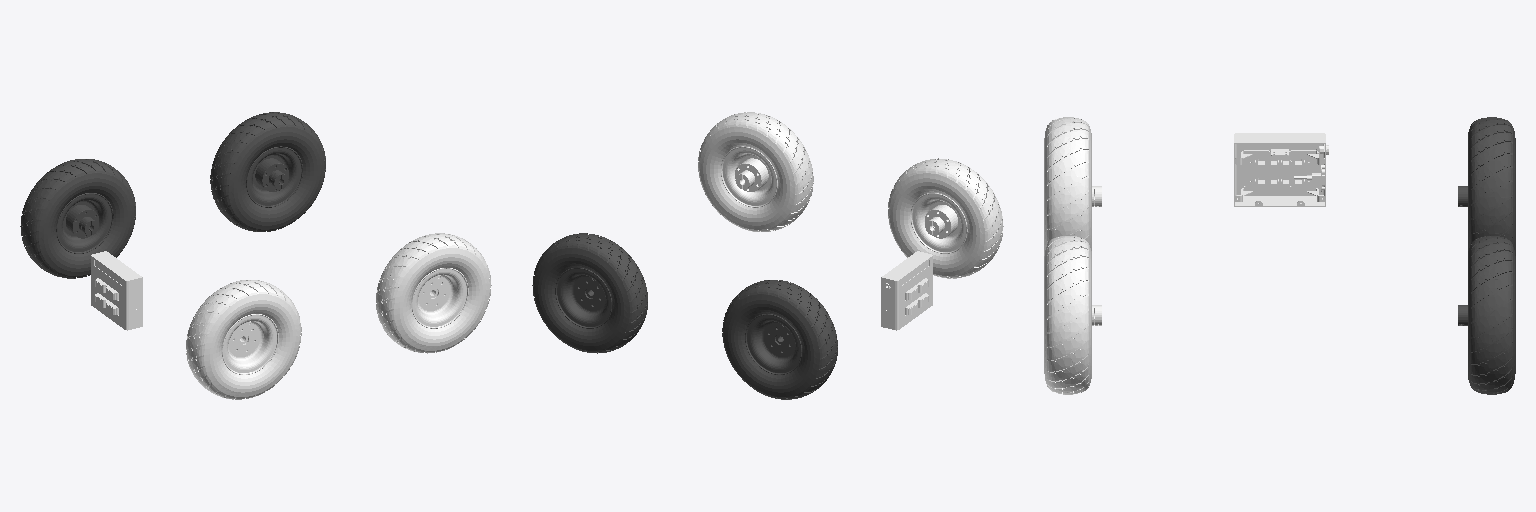
The robot description file, URDF, robot "top_4wd_dl_robot":
<?xml version="1.0" encoding="utf-8"?>
<!-- This URDF was automatically created by SolidWorks to URDF Exporter! Originally created by [author] ([email redacted]) 
     Commit Version: 1.6.0-4-g7f85cfe  Build Version: 1.6.7995.38578
     For more information, please see http://wiki.ros.org/sw_urdf_exporter -->
<robot
  name="top_4wd_dl_robot">
  <link
    name="base_link">
    <inertial>
      <origin
        xyz="-0.00553275858563772 -4.28792765896678E-05 0.0667089145254447"
        rpy="0 0 0" />
      <mass
        value="4.95424585875372" />
      <inertia
        ixx="0.0280370213159222"
        ixy="-7.08343863235741E-05"
        ixz="1.60705652948063E-06"
        iyy="0.0236467930876153"
        iyz="-1.04968574849272E-06"
        izz="0.048615492572775" />
    </inertial>
    <visual>
      <origin
        xyz="0 0 0"
        rpy="0 0 0" />
      <geometry>
        <mesh
          filename="package://wheeltec_robot_urdf/meshes/top_4wd_dl_robot_meshes/base_link.STL" />
      </geometry>
      <material
        name="">
        <color
          rgba="0.741176470588235 0.901960784313726 0.956862745098039 1" />
      </material>
    </visual>
    <collision>
      <origin
        xyz="0 0 0"
        rpy="0 0 0" />
      <geometry>
        <mesh
          filename="package://wheeltec_robot_urdf/meshes/top_4wd_dl_robot_meshes/base_link.STL" />
      </geometry>
    </collision>
  </link>
  <link
    name="lf_wheel_link">
    <inertial>
      <origin
        xyz="7.00190263297484E-07 -0.000667319267603272 2.42491191015937E-09"
        rpy="0 0 0" />
      <mass
        value="2.02582703878498" />
      <inertia
        ixx="0.00759861610238295"
        ixy="1.5479398059242E-08"
        ixz="-6.63299308230019E-08"
        iyy="0.0140697648307362"
        iyz="-4.55966663512674E-09"
        izz="0.00759881990002083" />
    </inertial>
    <visual>
      <origin
        xyz="0 0 0"
        rpy="0 0 0" />
      <geometry>
        <mesh
          filename="package://wheeltec_robot_urdf/meshes/top_4wd_dl_robot_meshes/lf_wheel_link.STL" />
      </geometry>
      <material
        name="">
        <color
          rgba="0.376470588235294 0.376470588235294 0.376470588235294 1" />
      </material>
    </visual>
    <collision>
      <origin
        xyz="0 0 0"
        rpy="0 0 0" />
      <geometry>
        <mesh
          filename="package://wheeltec_robot_urdf/meshes/top_4wd_dl_robot_meshes/lf_wheel_link.STL" />
      </geometry>
    </collision>
  </link>
  <joint
    name="lf_wheel_joint"
    type="continuous">
    <origin
      xyz="0.198985160645863 0.301917641802979 0.036499572875253"
      rpy="0 0 0" />
    <parent
      link="base_link" />
    <child
      link="lf_wheel_link" />
    <axis
      xyz="0 -1 0" />
  </joint>
  <link
    name="lb_wheel_link">
    <inertial>
      <origin
        xyz="7.00190264379952E-07 -0.000667319267603494 2.42491197954831E-09"
        rpy="0 0 0" />
      <mass
        value="2.02582703878493" />
      <inertia
        ixx="0.00759861610238278"
        ixy="1.5479398075832E-08"
        ixz="-6.63299307819908E-08"
        iyy="0.0140697648307357"
        iyz="-4.55966662560843E-09"
        izz="0.00759881990002055" />
    </inertial>
    <visual>
      <origin
        xyz="0 0 0"
        rpy="0 0 0" />
      <geometry>
        <mesh
          filename="package://wheeltec_robot_urdf/meshes/top_4wd_dl_robot_meshes/lb_wheel_link.STL" />
      </geometry>
      <material
        name="">
        <color
          rgba="0.376470588235294 0.376470588235294 0.376470588235294 1" />
      </material>
    </visual>
    <collision>
      <origin
        xyz="0 0 0"
        rpy="0 0 0" />
      <geometry>
        <mesh
          filename="package://wheeltec_robot_urdf/meshes/top_4wd_dl_robot_meshes/lb_wheel_link.STL" />
      </geometry>
    </collision>
  </link>
  <joint
    name="lb_wheel_joint"
    type="continuous">
    <origin
      xyz="-0.201014839354137 0.301917641802977 0.036499572875253"
      rpy="0 0 0" />
    <parent
      link="base_link" />
    <child
      link="lb_wheel_link" />
    <axis
      xyz="0 -1 0" />
  </joint>
  <link
    name="rb_wheel_link">
    <inertial>
      <origin
        xyz="-1.55442311547405E-06 0.000667319259281374 2.44026900075855E-09"
        rpy="0 0 0" />
      <mass
        value="2.02582703846619" />
      <inertia
        ixx="0.00759861610147675"
        ixy="1.54777526550636E-08"
        ixz="6.63330408617464E-08"
        iyy="0.0140697648257949"
        iyz="4.55957157792799E-09"
        izz="0.00759881989840068" />
    </inertial>
    <visual>
      <origin
        xyz="0 0 0"
        rpy="0 0 0" />
      <geometry>
        <mesh
          filename="package://wheeltec_robot_urdf/meshes/top_4wd_dl_robot_meshes/rb_wheel_link.STL" />
      </geometry>
      <material
        name="">
        <color
          rgba="1 1 1 1" />
      </material>
    </visual>
    <collision>
      <origin
        xyz="0 0 0"
        rpy="0 0 0" />
      <geometry>
        <mesh
          filename="package://wheeltec_robot_urdf/meshes/top_4wd_dl_robot_meshes/rb_wheel_link.STL" />
      </geometry>
    </collision>
  </link>
  <joint
    name="rb_wheel_joint"
    type="continuous">
    <origin
      xyz="-0.201014839354135 -0.301882358197023 0.036499572875253"
      rpy="0 0 0" />
    <parent
      link="base_link" />
    <child
      link="rb_wheel_link" />
    <axis
      xyz="0 1 0" />
  </joint>
  <link
    name="rf_wheel_link">
    <inertial>
      <origin
        xyz="-1.55443754265572E-06 0.000667319267614042 2.42491074442519E-09"
        rpy="0 0 0" />
      <mass
        value="2.02582703878491" />
      <inertia
        ixx="0.00759861610238269"
        ixy="1.54793980562575E-08"
        ixz="6.63299307634036E-08"
        iyy="0.0140697648307356"
        iyz="4.55966661022814E-09"
        izz="0.00759881990002052" />
    </inertial>
    <visual>
      <origin
        xyz="0 0 0"
        rpy="0 0 0" />
      <geometry>
        <mesh
          filename="package://wheeltec_robot_urdf/meshes/top_4wd_dl_robot_meshes/rf_wheel_link.STL" />
      </geometry>
      <material
        name="">
        <color
          rgba="1 1 1 1" />
      </material>
    </visual>
    <collision>
      <origin
        xyz="0 0 0"
        rpy="0 0 0" />
      <geometry>
        <mesh
          filename="package://wheeltec_robot_urdf/meshes/top_4wd_dl_robot_meshes/rf_wheel_link.STL" />
      </geometry>
    </collision>
  </link>
  <joint
    name="rf_wheel_joint"
    type="continuous">
    <origin
      xyz="0.198985160645865 -0.301882358197021 0.036499572875253"
      rpy="0 0 0" />
    <parent
      link="base_link" />
    <child
      link="rf_wheel_link" />
    <axis
      xyz="0 1 0" />
  </joint>
  <link
    name="laser_link">
    <inertial>
      <origin
        xyz="0.0019645863104342 -3.57895377307359E-06 -0.000201831632280582"
        rpy="0 0 0" />
      <mass
        value="0.0477519163712811" />
      <inertia
        ixx="3.38461999739335E-05"
        ixy="-2.19897045130024E-09"
        ixz="1.07118468663968E-06"
        iyy="3.9415041585582E-05"
        iyz="6.83978438604178E-10"
        izz="5.6078704210363E-05" />
    </inertial>
    <visual>
      <origin
        xyz="0 0 0"
        rpy="0 0 0" />
      <geometry>
        <mesh
          filename="package://wheeltec_robot_urdf/meshes/top_4wd_dl_robot_meshes/laser.STL" />
      </geometry>
      <material
        name="">
        <color
          rgba="0.376470588235294 0.376470588235294 0.376470588235294 1" />
      </material>
    </visual>
    <collision>
      <origin
        xyz="0 0 0"
        rpy="0 0 0" />
      <geometry>
        <mesh
          filename="package://wheeltec_robot_urdf/meshes/top_4wd_dl_robot_meshes/laser.STL" />
      </geometry>
    </collision>
  </link>
  <joint
    name="laser_joint"
    type="fixed">
    <origin
      xyz="0.144993160645862 1.79917669916331E-05 0.186515756616684"
      rpy="0 0 -3.14159265358979" />
    <parent
      link="base_link" />
    <child
      link="laser_link" />
    <axis
      xyz="0 0 0" />
  </joint>
  <link
    name="camera_link">
    <inertial>
      <origin
        xyz="3.44859346745885E-07 -3.53614329731157E-07 1.07624233650072E-07"
        rpy="0 0 0" />
      <mass
        value="0.0559842512080098" />
      <inertia
        ixx="0.000130810959339214"
        ixy="1.20255128206811E-07"
        ixz="1.62335437080148E-06"
        iyy="1.91148634967893E-05"
        iyz="-2.80016755795337E-08"
        izz="0.000131387469523027" />
    </inertial>
    <visual>
      <origin
        xyz="0 0 0"
        rpy="0 0 0" />
      <geometry>
        <mesh
          filename="package://wheeltec_robot_urdf/meshes/top_4wd_dl_robot_meshes/camera_link.STL" />
      </geometry>
      <material
        name="">
        <color
          rgba="1 1 1 1" />
      </material>
    </visual>
    <collision>
      <origin
        xyz="0 0 0"
        rpy="0 0 0" />
      <geometry>
        <mesh
          filename="package://wheeltec_robot_urdf/meshes/top_4wd_dl_robot_meshes/camera_link.STL" />
      </geometry>
    </collision>
  </link>
  <joint
    name="camera_joint"
    type="fixed">
    <origin
      xyz="0.228597160645864 0.000295641802978879 0.168195572875253"
      rpy="0 0 0" />
    <parent
      link="base_link" />
    <child
      link="camera_link" />
    <axis
      xyz="0 0 0" />
  </joint>
  <link
    name="controller_link">
    <inertial>
      <origin
        xyz="-0.0497103400547846 0.0175133932690653 0.00856001464881978"
        rpy="0 0 0" />
      <mass
        value="0.00107921954114689" />
      <inertia
        ixx="1.16330109995671E-08"
        ixy="-3.94092662514798E-09"
        ixz="3.69212982720522E-10"
        iyy="2.2683002186193E-07"
        iyz="5.23015112125972E-10"
        izz="2.25657044103431E-07" />
    </inertial>
    <visual>
      <origin
        xyz="0 0 0"
        rpy="0 0 0" />
      <geometry>
        <mesh
          filename="package://wheeltec_robot_urdf/meshes/top_4wd_dl_robot_meshes/controller_link.STL" />
      </geometry>
      <material
        name="">
        <color
          rgba="0.741176470588235 0.901960784313726 0.956862745098039 1" />
      </material>
    </visual>
    <collision>
      <origin
        xyz="0 0 0"
        rpy="0 0 0" />
      <geometry>
        <mesh
          filename="package://wheeltec_robot_urdf/meshes/top_4wd_dl_robot_meshes/controller_link.STL" />
      </geometry>
    </collision>
  </link>
  <joint
    name="controller_joint"
    type="fixed">
    <origin
      xyz="0.101379911991696 0.0620176418028592 0.00150000000000075"
      rpy="0 0 0" />
    <parent
      link="base_link" />
    <child
      link="controller_link" />
    <axis
      xyz="0 0 0" />
  </joint>
  <link
    name="charger_link">
    <inertial>
      <origin
        xyz="-4.16054060092819E-08 -1.59984955274035E-07 -2.19297715431388E-07"
        rpy="0 0 0" />
      <mass
        value="0.0766532168465764" />
      <inertia
        ixx="0.000186246330475419"
        ixy="-4.36464269841777E-06"
        ixz="-1.54194438428192E-06"
        iyy="7.38301893611402E-05"
        iyz="-1.66515432796458E-06"
        izz="0.000130459285323619" />
    </inertial>
    <visual>
      <origin
        xyz="0 0 0"
        rpy="0 0 0" />
      <geometry>
        <mesh
          filename="package://wheeltec_robot_urdf/meshes/top_4wd_dl_robot_meshes/charger_link.STL" />
      </geometry>
      <material
        name="">
        <color
          rgba="1 1 1 1" />
      </material>
    </visual>
    <collision>
      <origin
        xyz="0 0 0"
        rpy="0 0 0" />
      <geometry>
        <mesh
          filename="package://wheeltec_robot_urdf/meshes/top_4wd_dl_robot_meshes/charger_link.STL" />
      </geometry>
    </collision>
  </link>
  <joint
    name="charger_joint"
    type="fixed">
    <origin
      xyz="-0.304286839354136 0.00408564180297703 0.032046572875253"
      rpy="0 0 0" />
    <parent
      link="base_link" />
    <child
      link="charger_link" />
    <axis
      xyz="0 0 0" />
  </joint>
</robot>

--- Render facts (derived) ---
3 views of the same robot in one strip: view 1: azimuth 30°, elevation 25°; view 2: azimuth 150°, elevation 25°; view 3: azimuth 270°, elevation 25° (orthographic).
Robot: top_4wd_dl_robot — 9 links, 8 joints (4 continuous, 4 fixed); root link base_link; default pose: all joints at 0.
Visible links, largest first — view 1: lf_wheel_link, rb_wheel_link, rf_wheel_link, lb_wheel_link, charger_link; view 2: rf_wheel_link, lb_wheel_link, lf_wheel_link, rb_wheel_link, charger_link; view 3: rf_wheel_link, lf_wheel_link, charger_link, lb_wheel_link, rb_wheel_link.
Boxes of the visible links, bbox=[...] form: lf_wheel_link: bbox=[210, 112, 325, 231]; rb_wheel_link: bbox=[186, 280, 301, 399]; rf_wheel_link: bbox=[376, 233, 491, 353]; lb_wheel_link: bbox=[20, 159, 135, 278]; charger_link: bbox=[91, 251, 142, 330]; rf_wheel_link: bbox=[698, 112, 813, 231]; lb_wheel_link: bbox=[722, 280, 837, 399]; lf_wheel_link: bbox=[532, 233, 647, 353]; rb_wheel_link: bbox=[888, 158, 1003, 278]; charger_link: bbox=[881, 251, 932, 330]; rf_wheel_link: bbox=[1044, 236, 1101, 394]; lf_wheel_link: bbox=[1458, 236, 1515, 394]; charger_link: bbox=[1234, 133, 1328, 206]; lb_wheel_link: bbox=[1458, 117, 1515, 255]; rb_wheel_link: bbox=[1044, 117, 1101, 255].
Bounding box of the posed robot: 0.6342 × 0.6718 × 0.2269 m (x, y, z).
5 mesh visuals loaded from 9 distinct referenced files (5 binary STL); not drawn: 4 (reference not matched to a file when rendering).